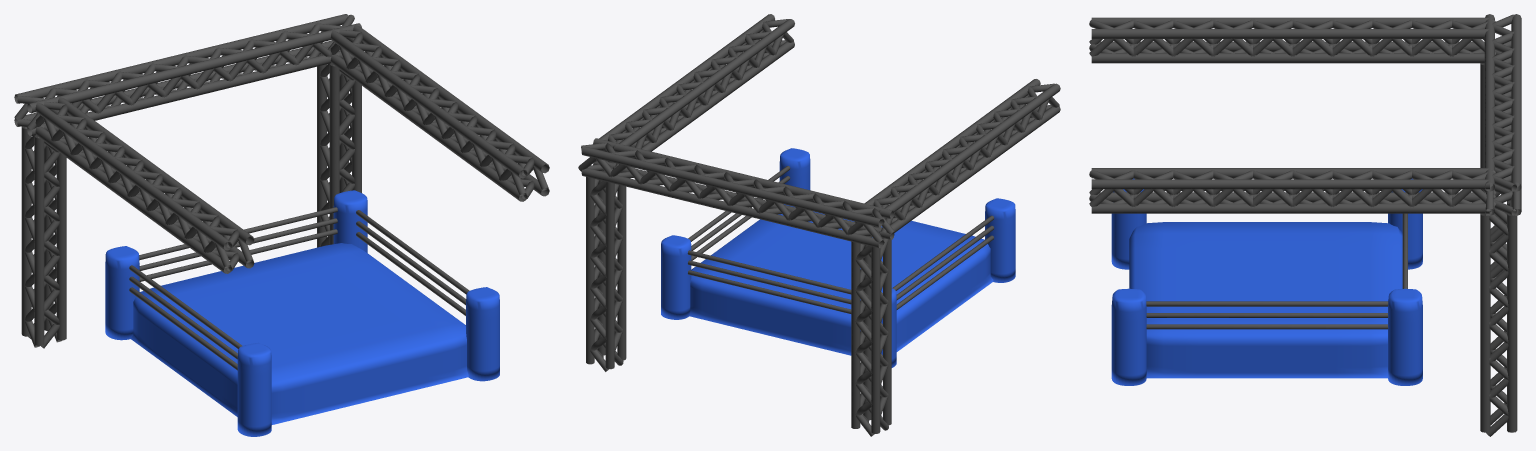
File: stage.fbx
The picture shows the model from 3 angles, left to right: view 1: azimuth 30°, elevation 25°; view 2: azimuth 150°, elevation 25°; view 3: azimuth 270°, elevation 25°; orthographic projection. The views are drawn at different scales.
Parts seen in each view (by area): view 1: Plane, Cube.012, Cube.011, Cube.010, Cube.013, Cube.009, Cube.003, Cube.001, Cube.002, Cube.006, Cube.007, Cube.008 (+1 smaller); view 2: Plane, Cube.012, Cube.010, Cube.011, Cube.013, Cube.009, Cube.006, Cube, Cube.003, Cube.008, Cube.007, Cube.001 (+1 smaller); view 3: Plane, Cube.010, Cube.011, Cube.009, Cube.012, Cube.007, Cube.001, Cube, Cube.003, Cube.002, Cube.013, Cube.006.
Part boxes in pixels (box(x1,y1,x2,y2)): Plane: box(130, 243, 468, 424); Cube.012: box(14, 14, 361, 136); Cube.011: box(330, 25, 549, 201); Cube.010: box(35, 97, 254, 273); Cube.013: box(21, 126, 66, 348); Cube.009: box(317, 54, 361, 247); Cube.003: box(237, 342, 271, 436); Cube.001: box(466, 287, 499, 381); Cube.002: box(105, 246, 139, 340); Cube.006: box(139, 207, 337, 281); Cube.007: box(356, 210, 469, 315); Cube.008: box(129, 265, 242, 370); Plane: box(689, 204, 993, 355); Cube.012: box(578, 138, 894, 248); Cube.010: box(862, 79, 1060, 234); Cube.011: box(595, 14, 794, 169); Cube.013: box(851, 235, 891, 436); Cube.009: box(586, 170, 626, 371); Cube.006: box(687, 250, 851, 313); Cube: box(661, 235, 691, 319); Cube.003: box(985, 198, 1015, 282); Cube.008: box(892, 215, 994, 309); Cube.007: box(688, 166, 790, 260); Cube.001: box(779, 148, 810, 189); Plane: box(1129, 222, 1402, 378); Cube.010: box(1089, 17, 1495, 63); Cube.011: box(1089, 168, 1496, 213); Cube.009: box(1480, 200, 1517, 436); Cube.012: box(1484, 14, 1521, 215); Cube.007: box(1146, 301, 1388, 329); Cube.001: box(1111, 288, 1146, 385); Cube: box(1388, 288, 1422, 385); Cube.003: box(1111, 178, 1146, 269); Cube.002: box(1388, 178, 1422, 269); Cube.013: box(1480, 63, 1511, 276); Cube.006: box(1402, 213, 1407, 288).
Bounding box in the file's own units: 9145 × 6364 × 9716.
